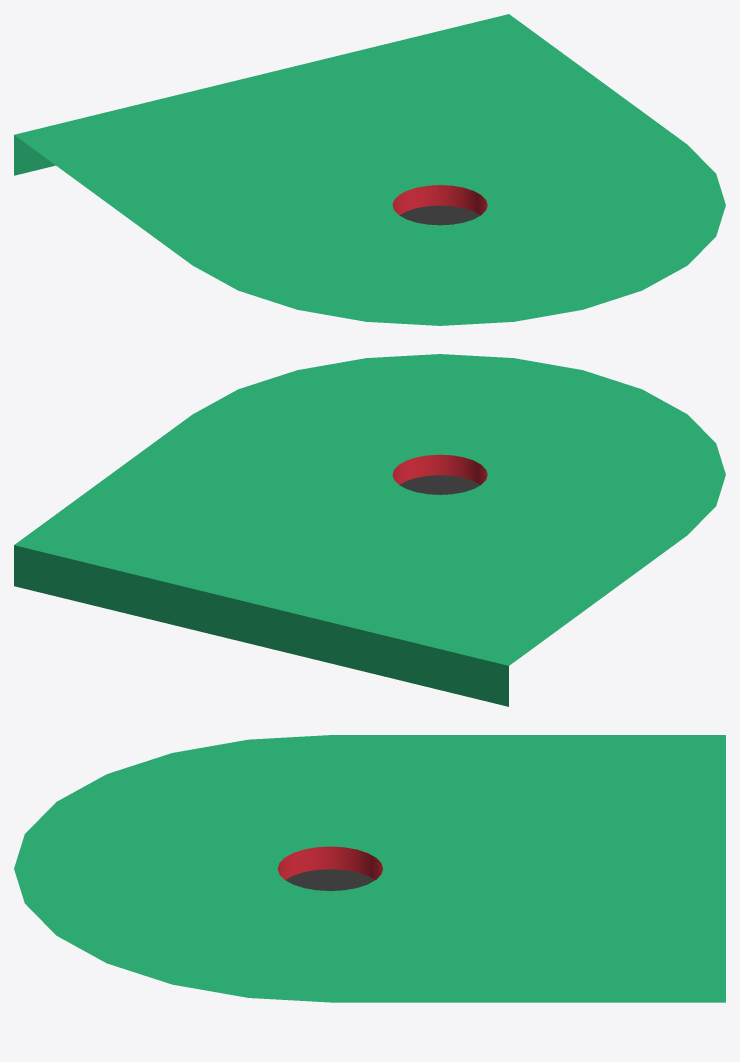
File: Hoyo 3.FBX
The picture shows the model from 3 angles, top to bottom: view 1: azimuth 30°, elevation 25°; view 2: azimuth 150°, elevation 25°; view 3: azimuth 270°, elevation 25°; orthographic projection. The views are drawn at different scales.
Visible parts, largest first — view 1: holeRound; view 2: holeRound; view 3: holeRound.
Part boxes in pixels (x1,y1,x2,y2): holeRound: (14, 14, 725, 325); holeRound: (14, 354, 725, 706); holeRound: (14, 735, 725, 1002).
Bounding box in the file's own units: 79.99 × 6.33 × 89.99.
